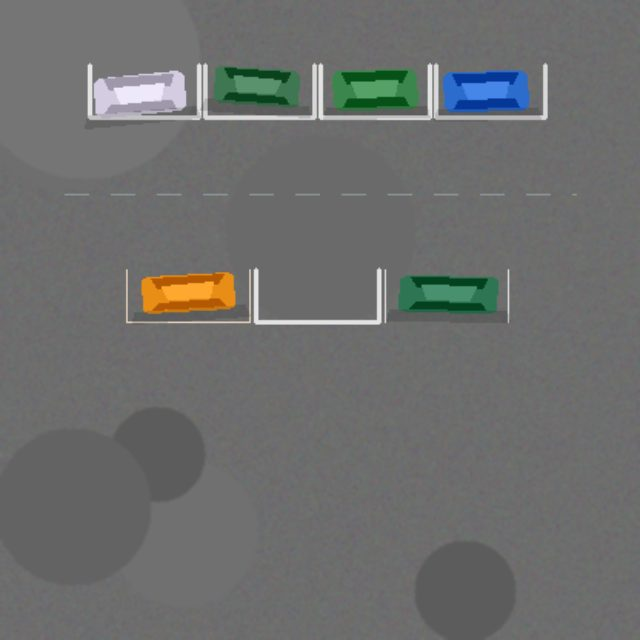space-empty: (255, 269, 378, 322)
space-occupied: (126, 269, 249, 322), (385, 269, 508, 322), (435, 65, 545, 117), (89, 65, 198, 117), (205, 65, 314, 117), (320, 65, 429, 117)
